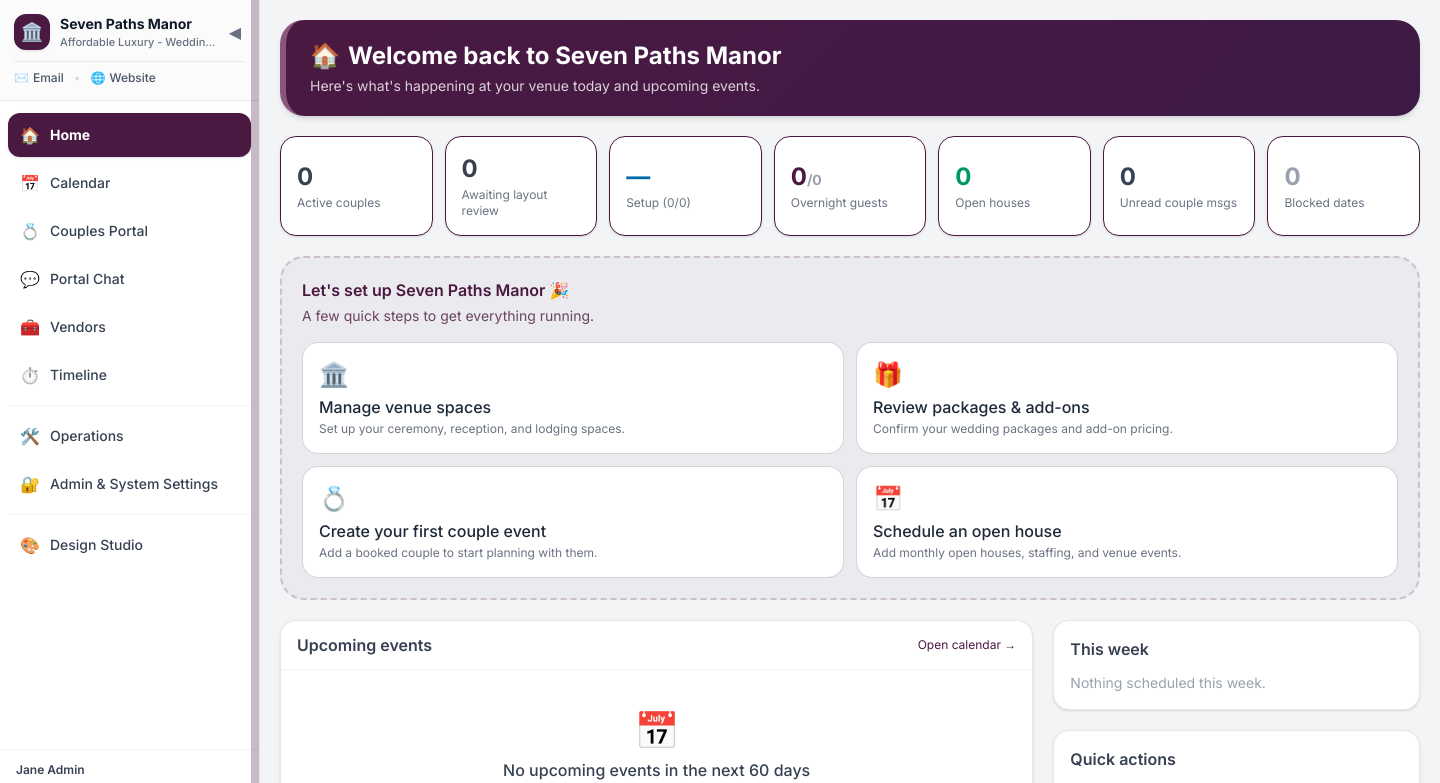
Comprehensive Platform Application & Functional Design Audit (#153) › renders all 7 dashboard KPI stat cards as interactive buttons with accessibility labels and correct section navigation
Clicking "Active couples" opens the couples section
Click the button "0 Active couples": [356, 186] box [280,136,433,236]
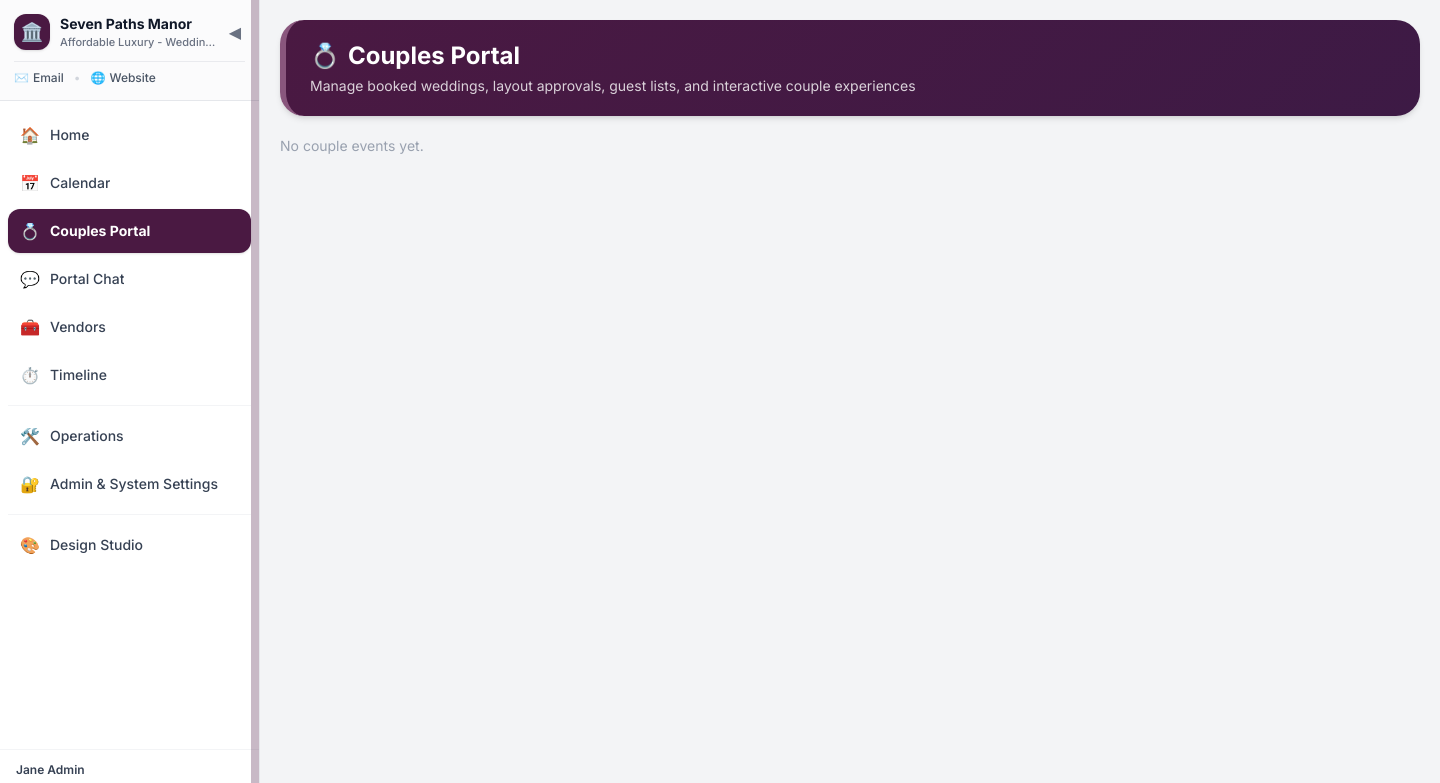
Expected: the heading "💍 Couples Portal" is shown, [310,41,520,70]
